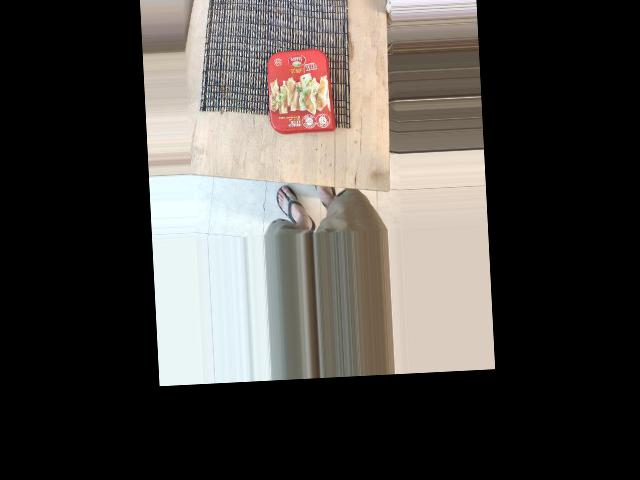cheese: (200, 26, 308, 134)
